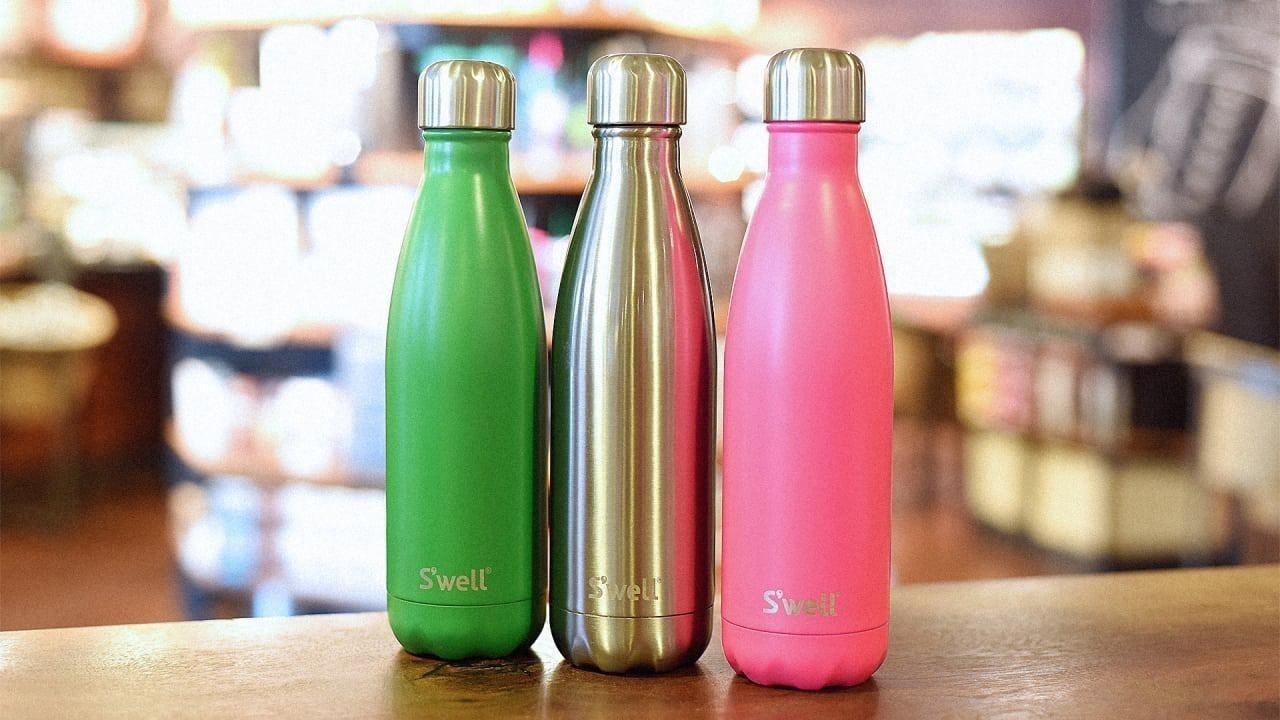gym bottle: (715, 48, 901, 690), (556, 50, 721, 683), (381, 51, 550, 669)
